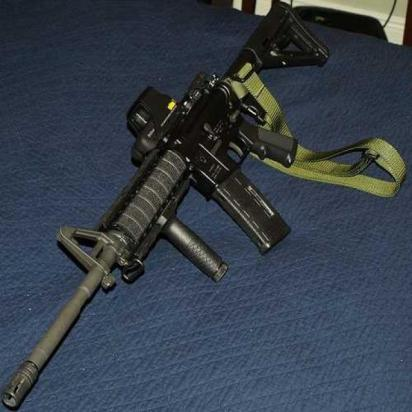Gun: (17, 13, 350, 386)
